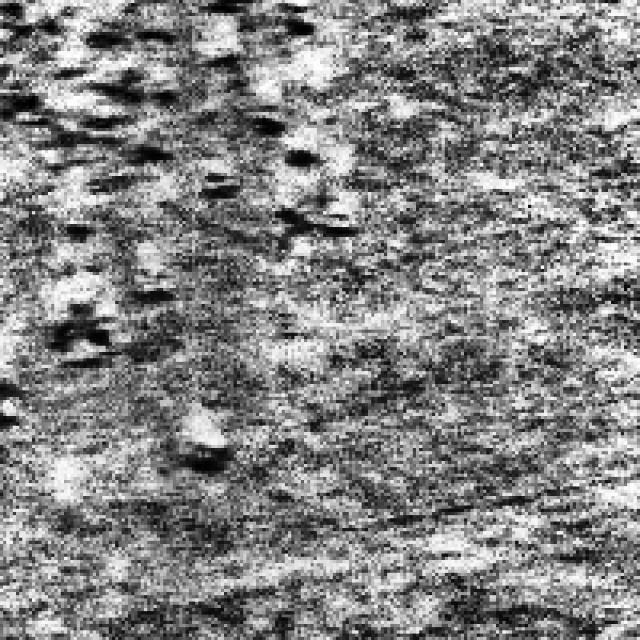Crazing: (0, 6, 323, 218), (0, 278, 221, 461)
